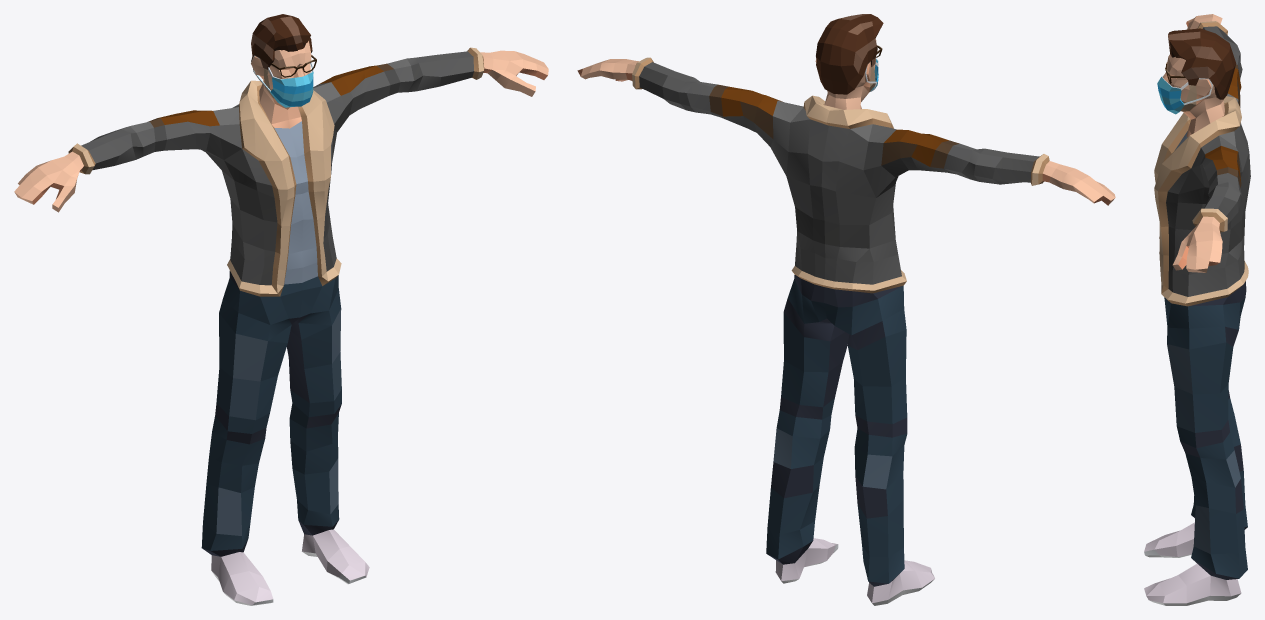
File: winter_Male_A-model.obj
The picture shows the model from 3 angles, left to right: view 1: azimuth 30°, elevation 25°; view 2: azimuth 150°, elevation 25°; view 3: azimuth 270°, elevation 25°; orthographic projection. The views are drawn at different scales.
Visible parts, largest first — view 1: winter_Male_A, acc_mean_hair_hpstr, acc_mask_blue; view 2: winter_Male_A, acc_mean_hair_hpstr; view 3: winter_Male_A, acc_mean_hair_hpstr, acc_mask_blue.
Boxes of the visible parts, x1=… form: winter_Male_A: x1=14, y1=41, x2=548, y2=605; acc_mean_hair_hpstr: x1=251, y1=14, x2=312, y2=69; acc_mask_blue: x1=252, y1=55, x2=313, y2=107; winter_Male_A: x1=577, y1=39, x2=1115, y2=605; acc_mean_hair_hpstr: x1=816, y1=14, x2=883, y2=94; winter_Male_A: x1=1144, y1=14, x2=1250, y2=605; acc_mean_hair_hpstr: x1=1168, y1=28, x2=1236, y2=99; acc_mask_blue: x1=1157, y1=75, x2=1212, y2=114.
Bounding box in the file's own units: 182 × 183 × 32.64.
